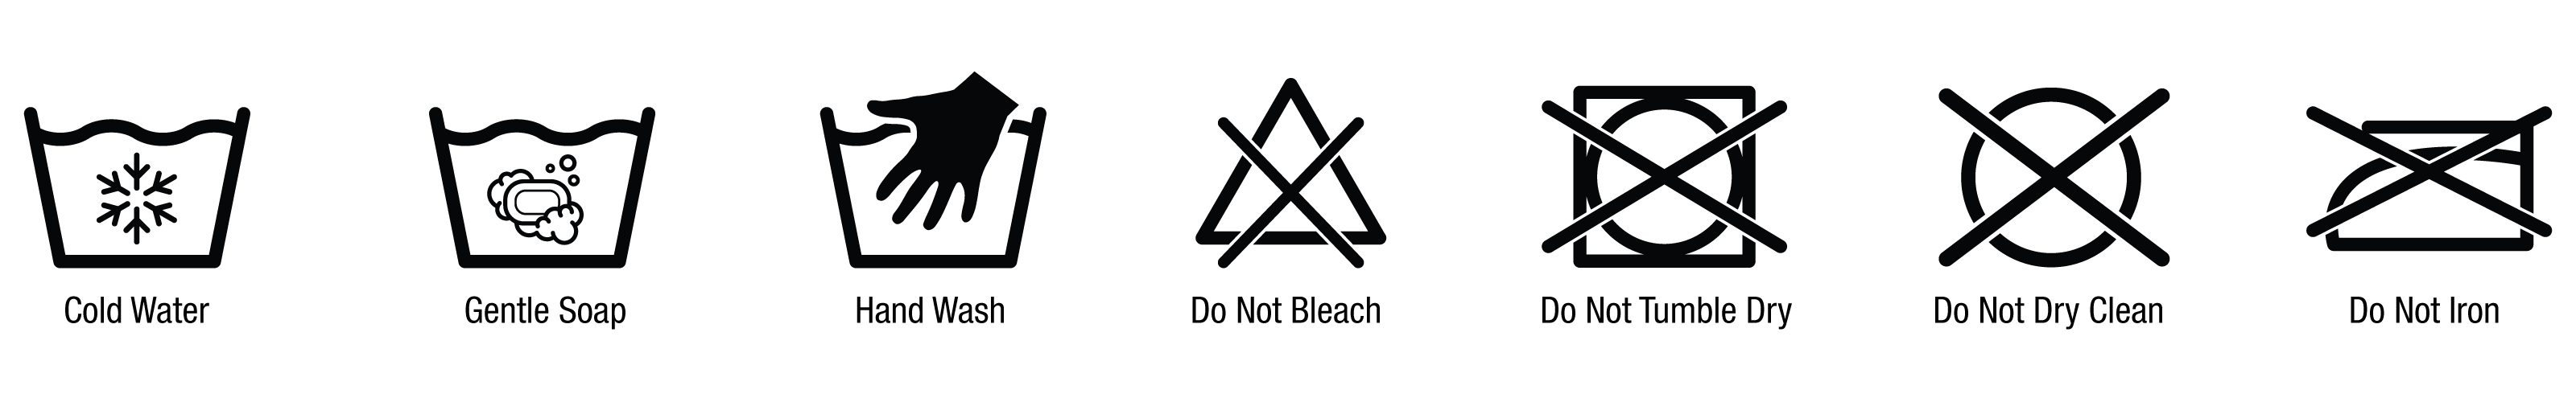do_not_bleach: (1189, 74, 1380, 279)
do_not_dry_clean: (1934, 84, 2165, 276)
do_not_iron: (2305, 100, 2553, 254)
